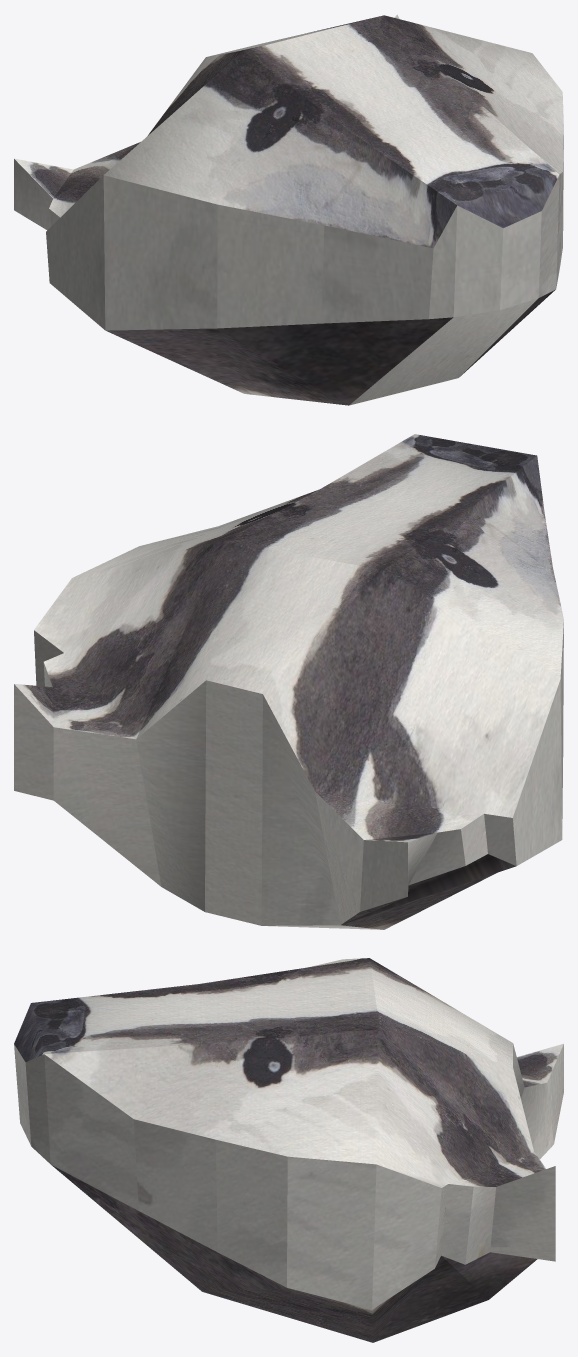
File: badger-head.fbx
3 renders of one model, top to bottom at view 1: azimuth 30°, elevation 25°; view 2: azimuth 150°, elevation 25°; view 3: azimuth 270°, elevation 25°, orthographic. The views are drawn at different scales.
Parts seen in each view (by area): view 1: badger_head; view 2: badger_head; view 3: badger_head.
Boxes of the visible parts, x1,y1,x2,y2 form: badger_head: (14,14,563,405); badger_head: (14,434,563,929); badger_head: (14,958,563,1342).
Bounding box in the file's own units: 77.25 × 55.67 × 86.05.
Materials: 1 (1 with a texture image).
